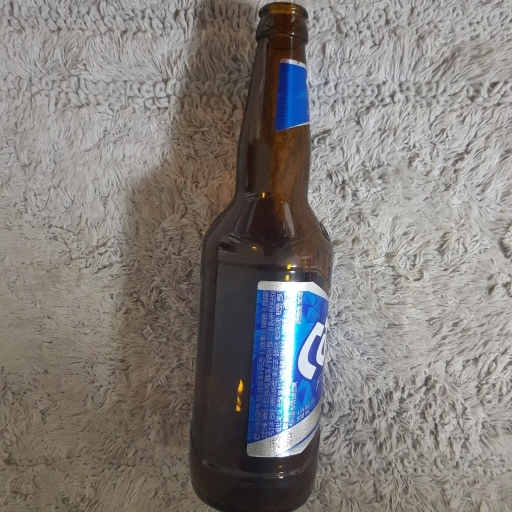Glass_1: (189, 4, 338, 512)
